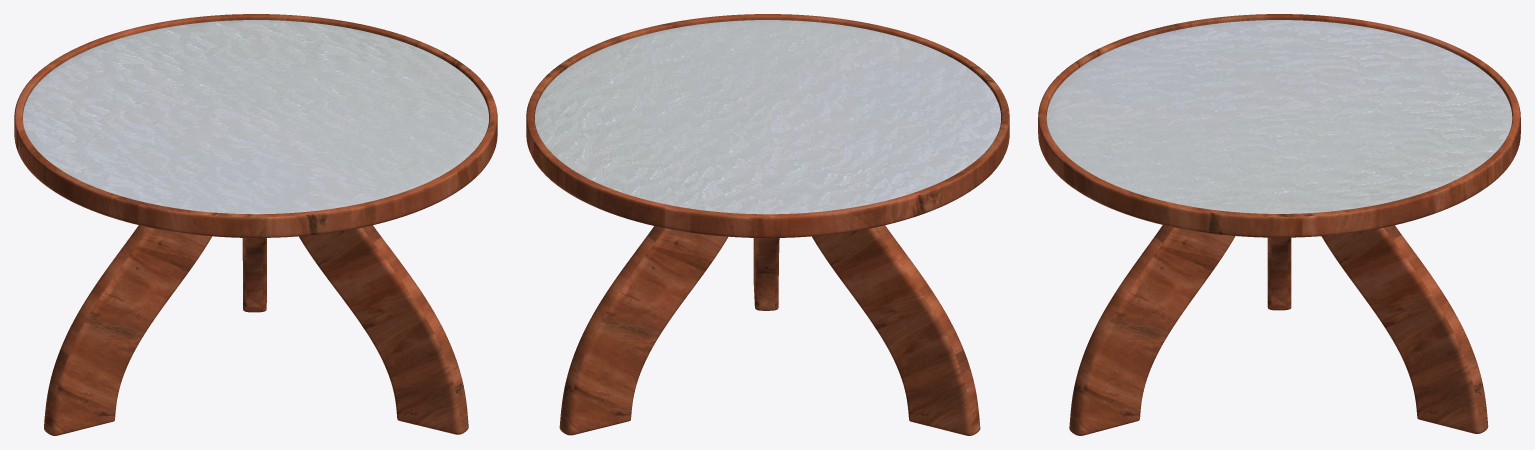
3 renders of one model, left to right at view 1: azimuth 30°, elevation 25°; view 2: azimuth 150°, elevation 25°; view 3: azimuth 270°, elevation 25°, orthographic.
Parts seen in each view (by area): view 1: Table_Top_0, Table_Top_1, Leg2_0, Leg1_0, Leg3_0; view 2: Table_Top_0, Table_Top_1, Leg1_0, Leg3_0, Leg2_0; view 3: Table_Top_0, Table_Top_1, Leg2_0, Leg3_0, Leg1_0.
Part boxes in pixels (bbox=[...]): Table_Top_0: bbox=[23, 20, 488, 214]; Table_Top_1: bbox=[14, 14, 497, 237]; Leg2_0: bbox=[299, 225, 468, 434]; Leg1_0: bbox=[44, 225, 211, 435]; Leg3_0: bbox=[242, 238, 266, 312]; Table_Top_0: bbox=[535, 20, 1000, 214]; Table_Top_1: bbox=[526, 14, 1009, 237]; Leg1_0: bbox=[812, 225, 980, 435]; Leg3_0: bbox=[559, 226, 728, 435]; Leg2_0: bbox=[753, 238, 779, 310]; Table_Top_0: bbox=[1046, 20, 1512, 213]; Table_Top_1: bbox=[1038, 14, 1520, 237]; Leg2_0: bbox=[1069, 225, 1235, 435]; Leg3_0: bbox=[1321, 225, 1488, 433]; Leg1_0: bbox=[1267, 237, 1291, 310].
Bounding box in the file's own units: 1.99 × 1.21 × 1.99.
Materials: 3 (3 with a texture image).
